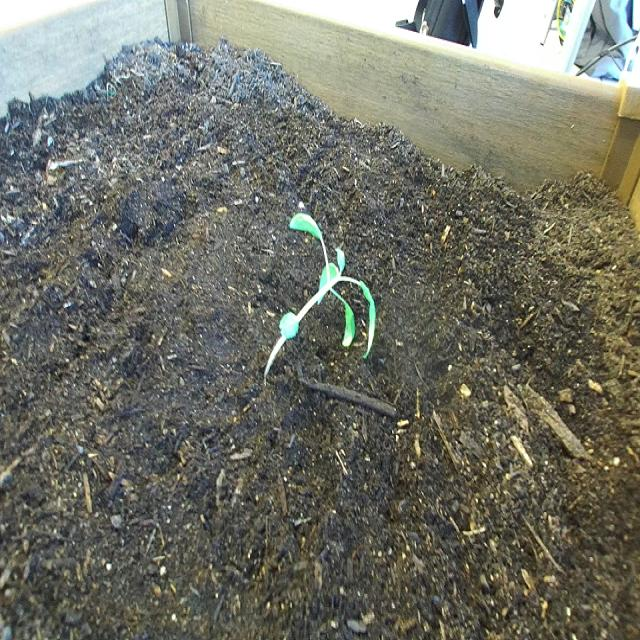Healthy: (259, 208, 379, 396)
